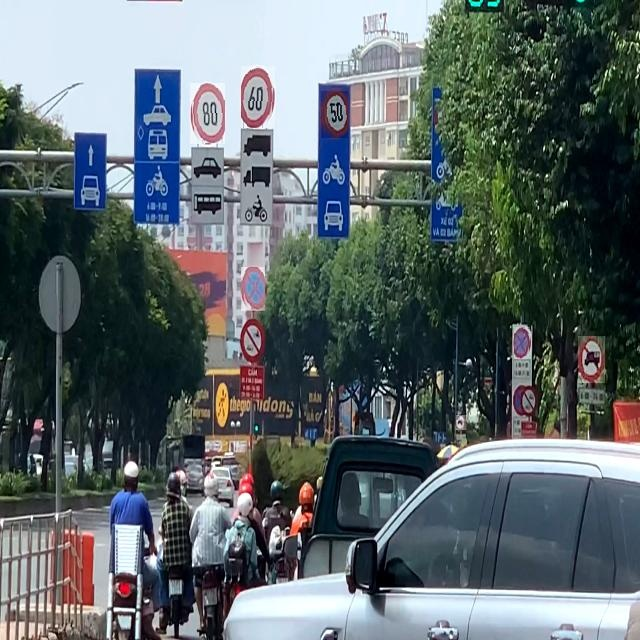bien_hieu_lenh: (190, 83, 225, 144), (241, 66, 275, 128), (578, 336, 605, 383), (321, 91, 348, 138), (241, 268, 265, 312), (514, 327, 531, 359), (456, 415, 466, 430)
